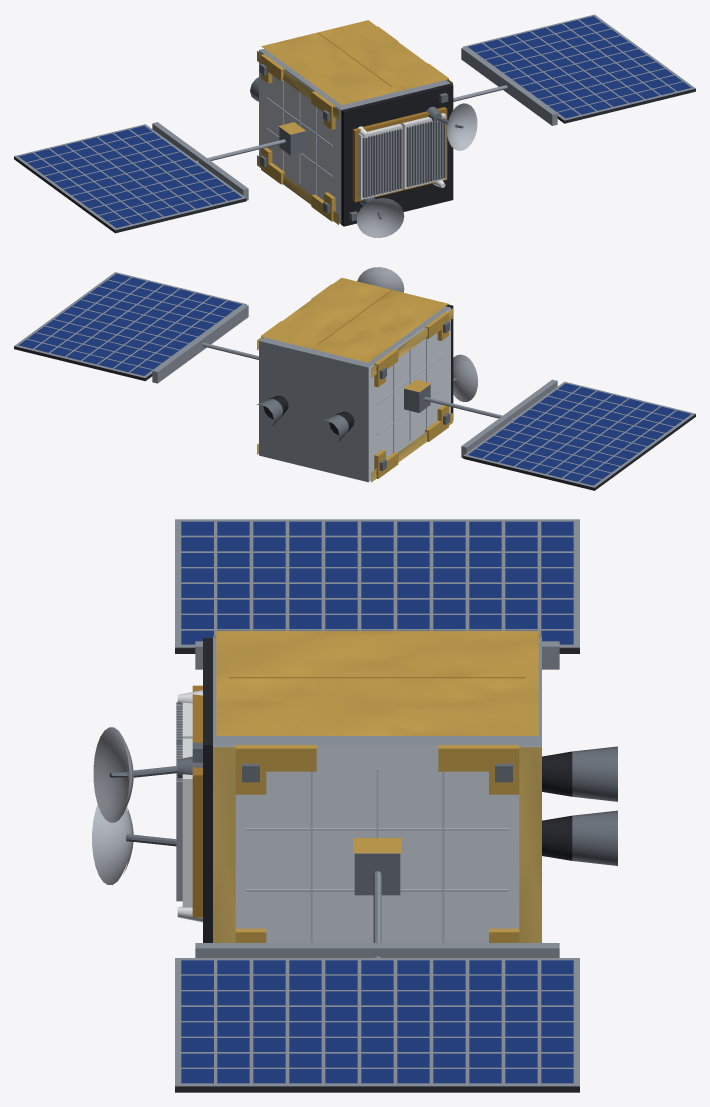
File: oneweb.glb
The picture shows the model from 3 angles, top to bottom: view 1: azimuth 30°, elevation 25°; view 2: azimuth 150°, elevation 25°; view 3: azimuth 270°, elevation 25°; orthographic projection. The views are drawn at different scales.
Parts seen in each view (by area): view 1: body, solar-panel, foil; view 2: body, solar-panel, foil; view 3: body, solar-panel, foil.
Boxes of the visible parts, x1,y1,x2,y2 form: body: (14, 14, 695, 237); solar-panel: (18, 16, 691, 227); foil: (257, 20, 452, 224); body: (14, 267, 695, 490); solar-panel: (18, 273, 690, 485); foil: (257, 277, 452, 482); body: (92, 519, 617, 1092); solar-panel: (181, 521, 573, 1083); foil: (213, 631, 541, 942).
Bounding box in the file's own units: 5.3 × 1.12 × 2.08.
